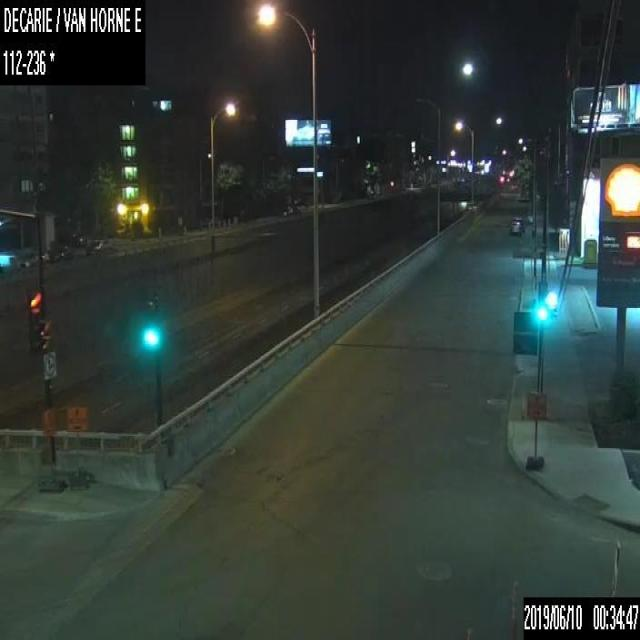construction: (39, 404, 64, 491), (66, 401, 88, 489), (524, 391, 546, 468)
vehicle: (86, 238, 110, 256), (276, 204, 300, 222), (20, 251, 48, 266), (51, 243, 69, 262), (508, 220, 523, 235), (510, 212, 523, 225)
